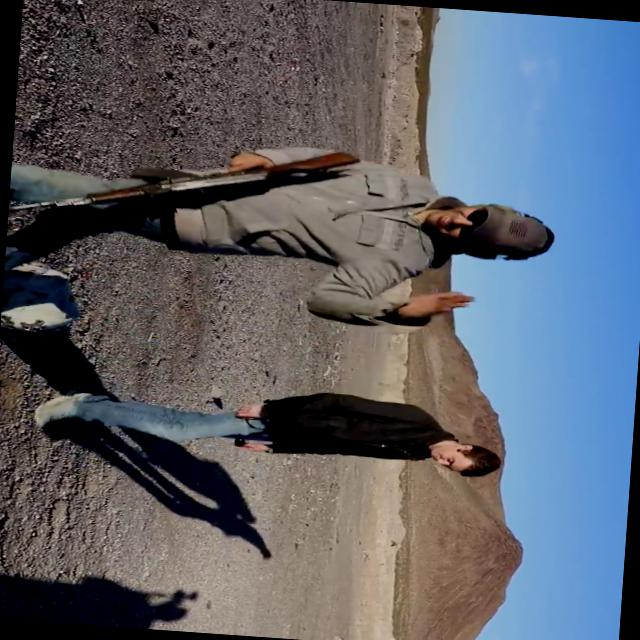long weapon: (6, 114, 386, 261)
